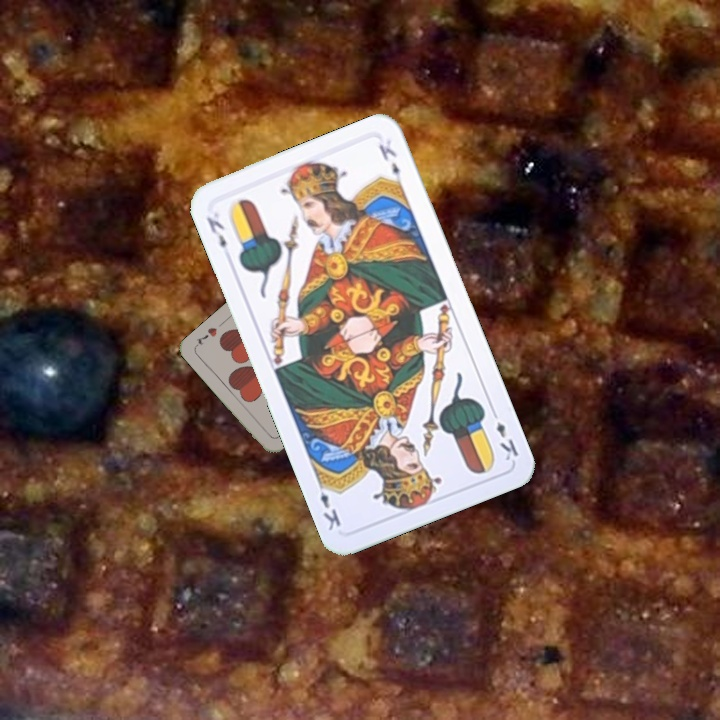EK: (487, 405, 521, 464), (202, 212, 229, 251)
